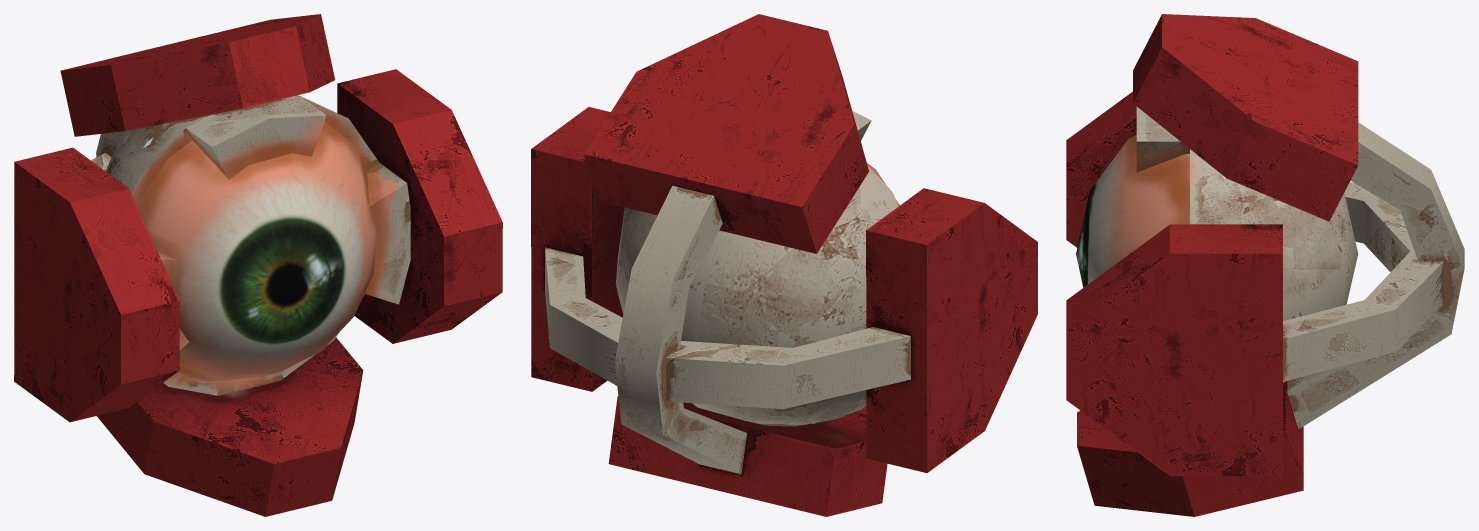
The model's file is CHEST_CHIBI_MECHANIC_EYE.fbx.
The picture shows the model from 3 angles, left to right: view 1: azimuth 30°, elevation 25°; view 2: azimuth 150°, elevation 25°; view 3: azimuth 270°, elevation 25°; orthographic projection. The views are drawn at different scales.
Parts seen in each view (by area): view 1: CHEST_CHIBI_MECHANIC_EYE; view 2: CHEST_CHIBI_MECHANIC_EYE; view 3: CHEST_CHIBI_MECHANIC_EYE.
Part boxes in pixels (left/top/right/bottom): CHEST_CHIBI_MECHANIC_EYE: left=14, top=14, right=502, bottom=516; CHEST_CHIBI_MECHANIC_EYE: left=531, top=14, right=1037, bottom=516; CHEST_CHIBI_MECHANIC_EYE: left=1066, top=14, right=1464, bottom=516.
Size of the model in its own units: 0.0673 by 0.076 by 0.06.
